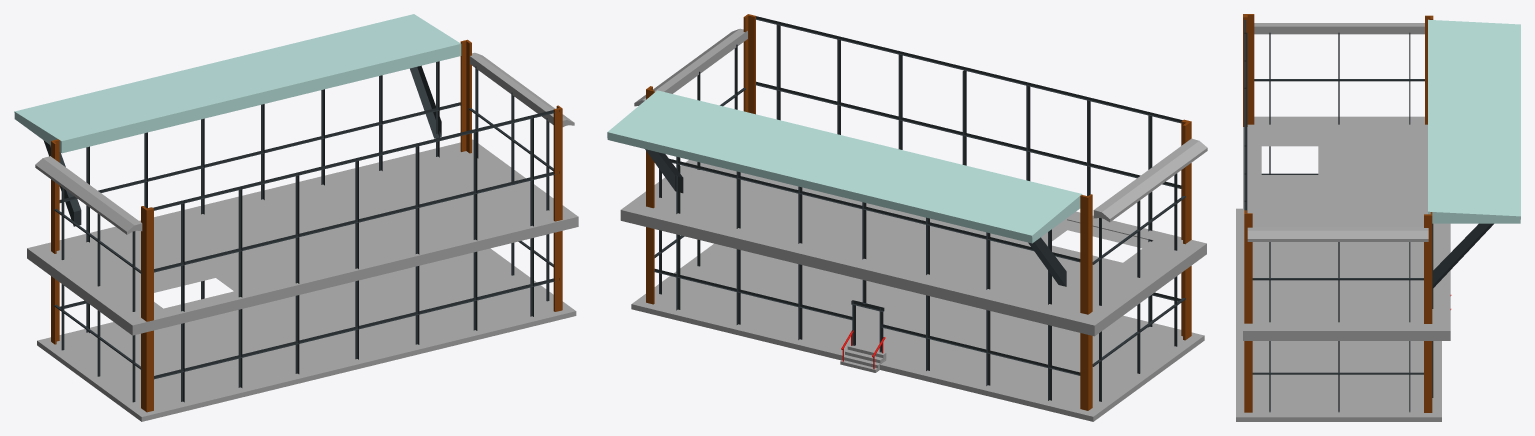
The model's file is ShopXe.fbx.
3 renders of one model, left to right at view 1: azimuth 30°, elevation 25°; view 2: azimuth 150°, elevation 25°; view 3: azimuth 270°, elevation 25°, orthographic. The views are drawn at different scales.
Visible parts, largest first — view 1: Cube.004; view 2: Cube.004; view 3: Cube.004.
Boxes of the visible parts, bbox=[...] form: Cube.004: bbox=[14, 14, 578, 421]; Cube.004: bbox=[607, 14, 1207, 421]; Cube.004: bbox=[1236, 14, 1520, 421].
Size of the model in its own units: 1248 by 549 by 697.
